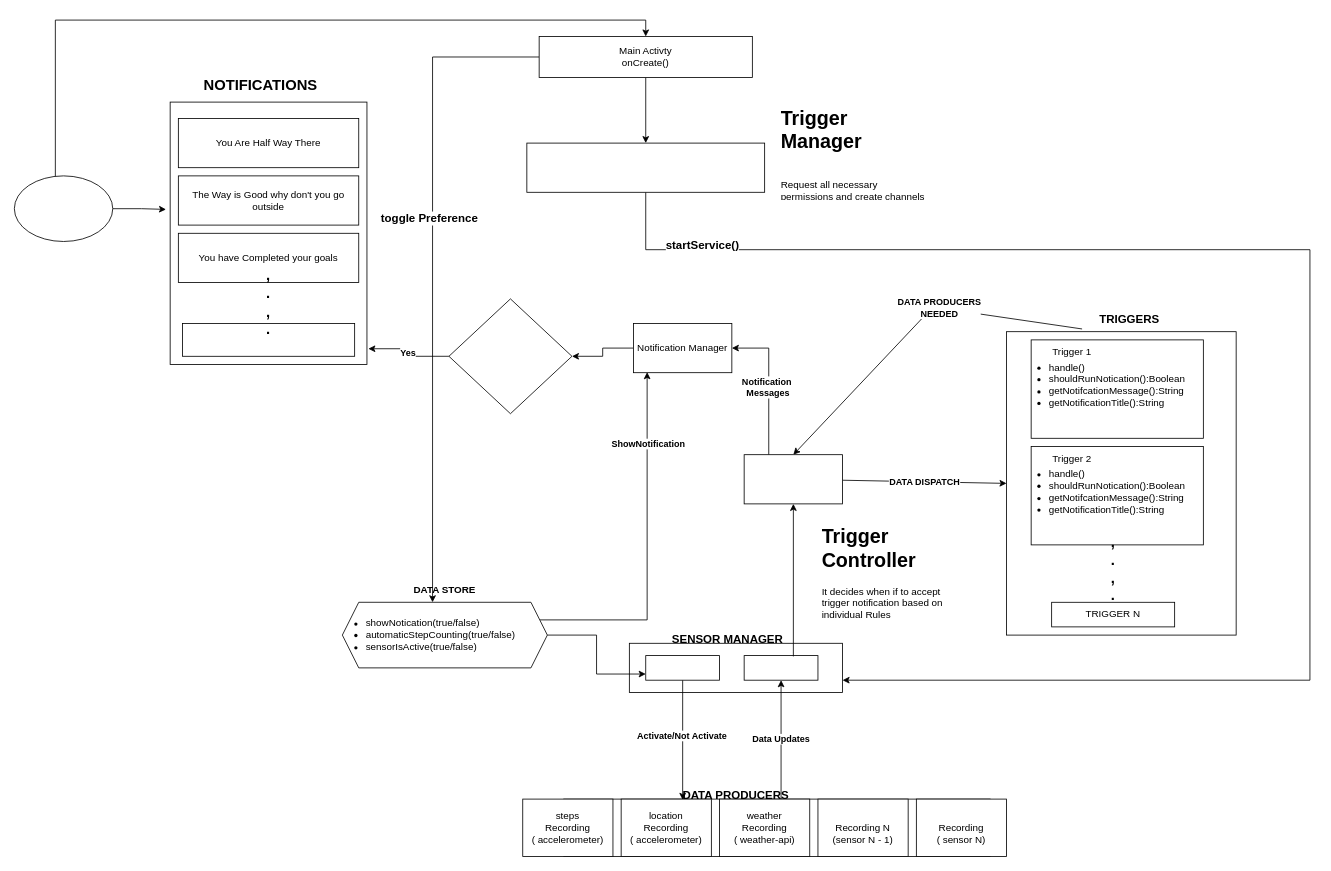
The diagram is 1331 pixels wide and 871 high, and some of its shapes have lost their labels. Each missing label, with the box of its shape:
isPermission Granted: (448, 298, 572, 414)
Notification N: (182, 323, 355, 356)
onClick(): (14, 175, 113, 241)
Sensor Controller: (645, 655, 720, 680)
Sensor Updates Handler: (743, 655, 818, 680)
Trigger Controller: (743, 454, 843, 504)
Trigger Manager Service: (526, 142, 765, 192)
